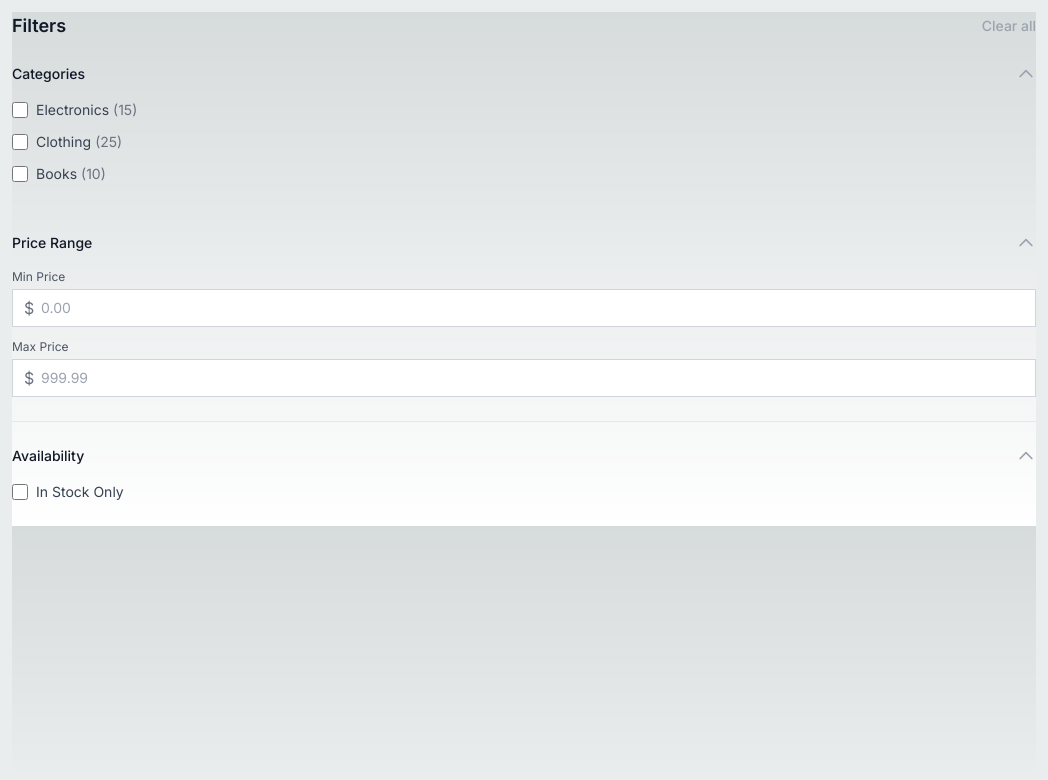
ProductFilters Component › Clear All Filters › should show clear button only when filters applied
Expected: the button "Clear all" is disabled, x1=982 y1=16 x2=1036 y2=36
Apply filter
What coordinates should you click on to do the following:
click the checkbox labelled "Electronics(15)"
I would click on:
 (20, 110)
Its box is x1=12 y1=102 x2=28 y2=118.
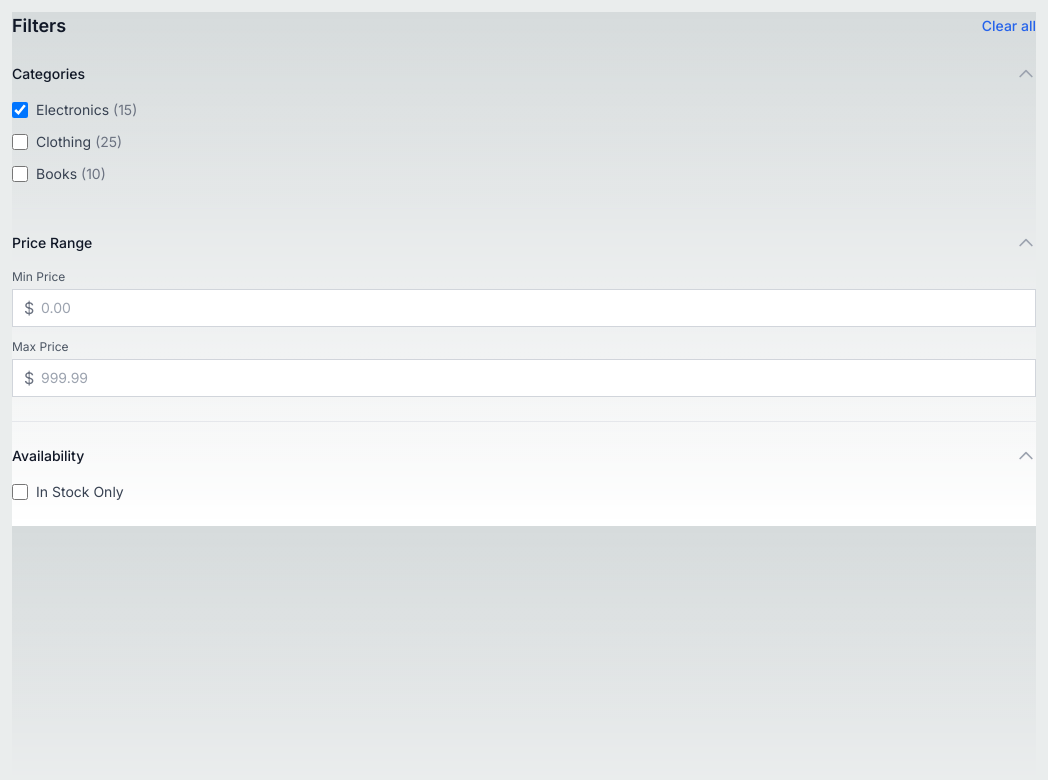
Expected: the button "Clear all" is enabled, x1=982 y1=16 x2=1036 y2=36
